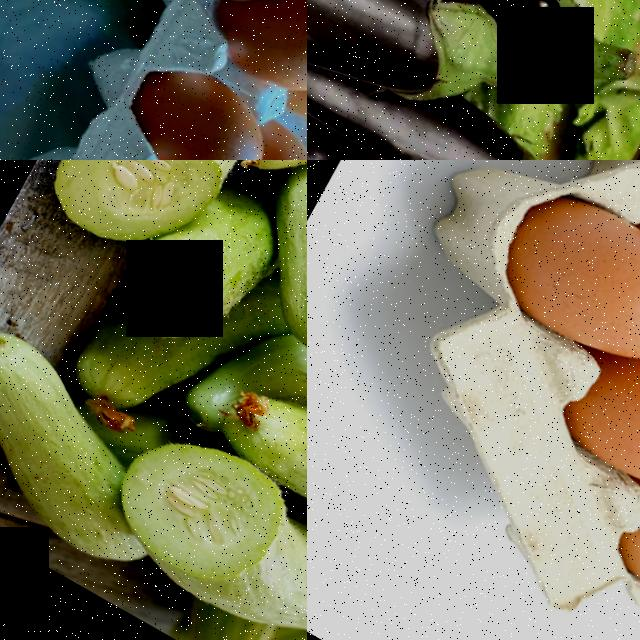cucumber: (89, 407, 307, 618), (0, 321, 156, 536), (30, 160, 258, 280), (213, 349, 307, 616)
egg_: (489, 178, 640, 393), (117, 49, 289, 160), (557, 341, 640, 521), (204, 0, 307, 120), (241, 122, 307, 160)
eggplant: (307, 0, 525, 140), (307, 3, 464, 160), (397, 85, 583, 160)
